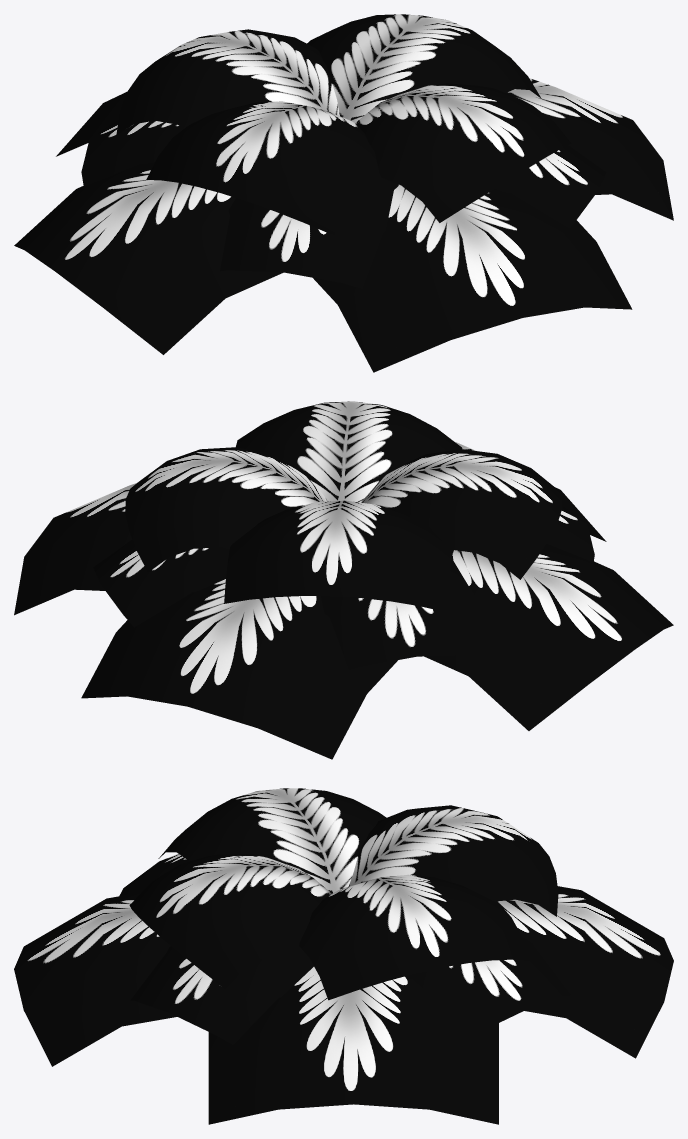
File: Leaf_01.fbx
The picture shows the model from 3 angles, top to bottom: view 1: azimuth 30°, elevation 25°; view 2: azimuth 150°, elevation 25°; view 3: azimuth 270°, elevation 25°; orthographic projection. The views are drawn at different scales.
Parts seen in each view (by area): view 1: Plane006; view 2: Plane006; view 3: Plane006.
Part boxes in pixels (bbox=[...]): Plane006: bbox=[14, 14, 673, 372]; Plane006: bbox=[14, 401, 673, 759]; Plane006: bbox=[14, 788, 673, 1124].
Bounding box in the file's own units: 21.56 × 21.56 × 5.68.
